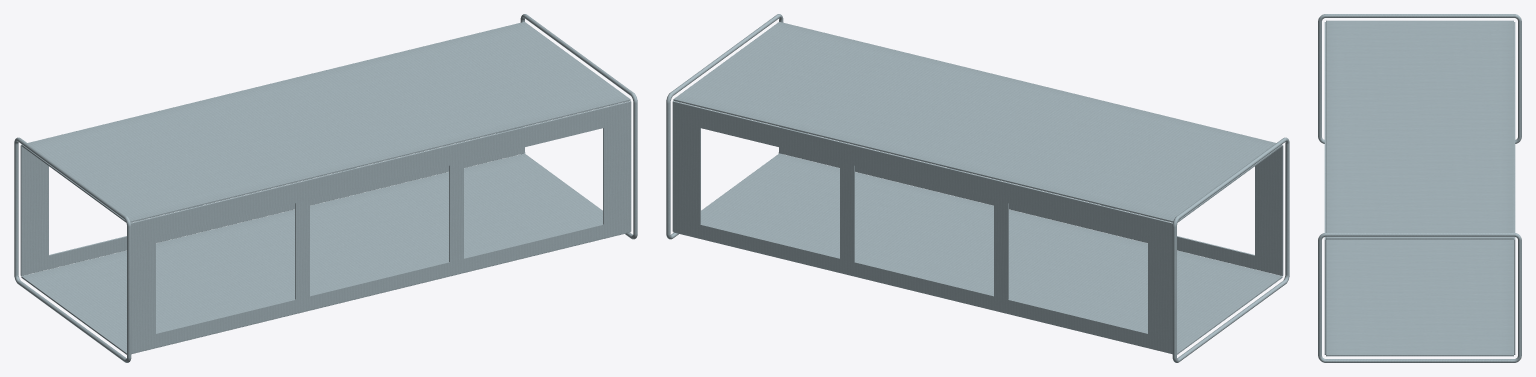
File: 29-metal-lined-open-track-tunnel.fbx
3 views of the same model, side by side, from view 1: azimuth 30°, elevation 25°; view 2: azimuth 150°, elevation 25°; view 3: azimuth 270°, elevation 25° (orthographic). The views are drawn at different scales.
Visible parts, largest first — view 1: metal-lined-open-track-tunnel; view 2: metal-lined-open-track-tunnel; view 3: metal-lined-open-track-tunnel.
Part boxes in pixels (<box>): metal-lined-open-track-tunnel: <box>14,14,637,362</box>; metal-lined-open-track-tunnel: <box>666,14,1289,362</box>; metal-lined-open-track-tunnel: <box>1318,14,1521,362</box>.
Size of the model in its own units: 17230 by 4730 by 6730.
1 material, 1 textured.
